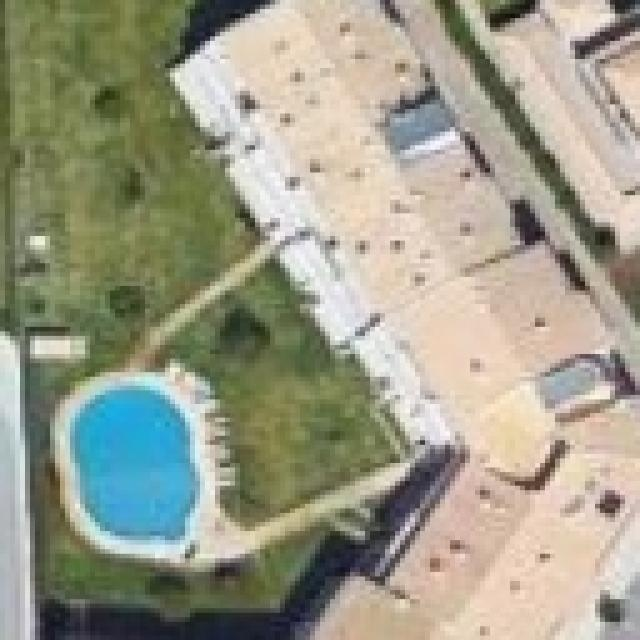pool: (60, 372, 208, 559)
